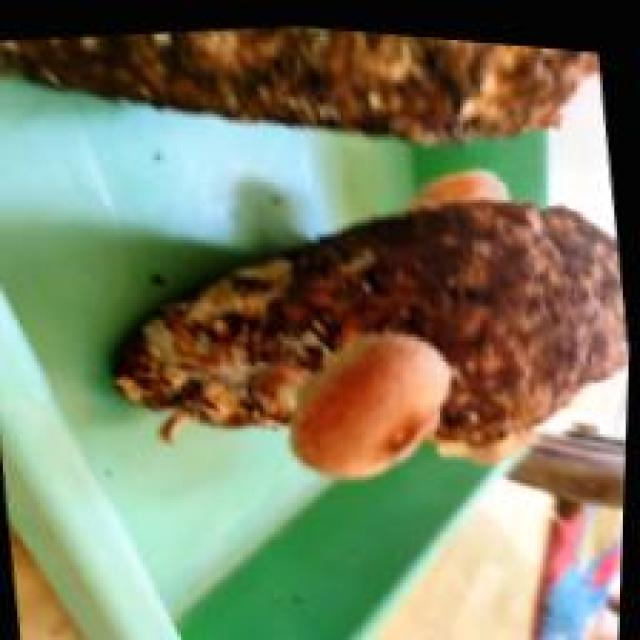chanterelle: (109, 194, 626, 480)
